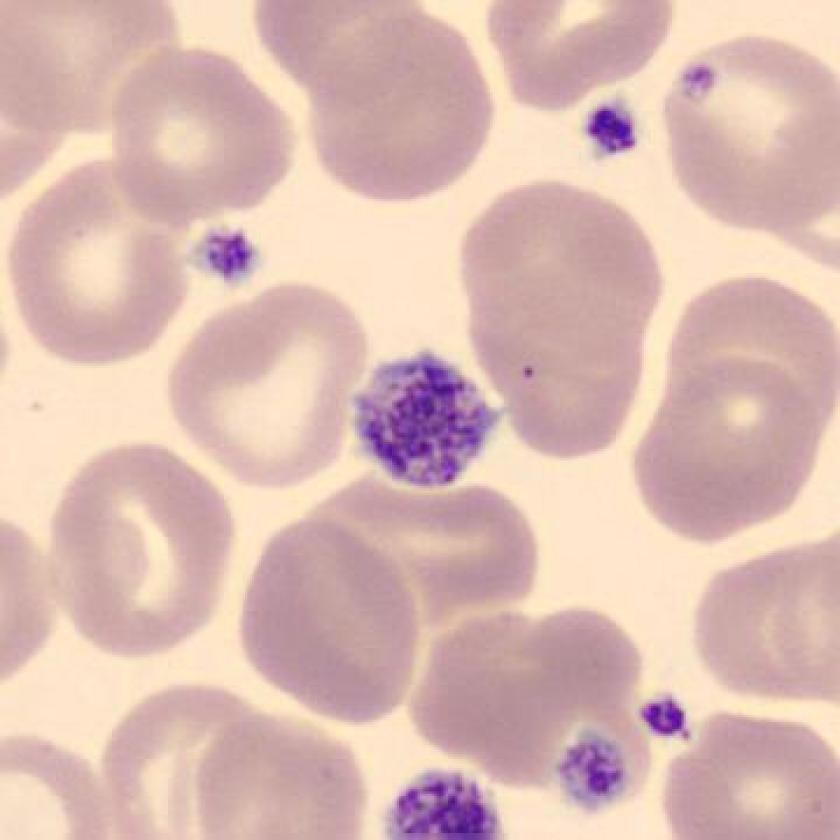platelets: (342, 335, 514, 506), (542, 707, 650, 829), (186, 203, 277, 307), (573, 82, 654, 184), (626, 677, 713, 753)
